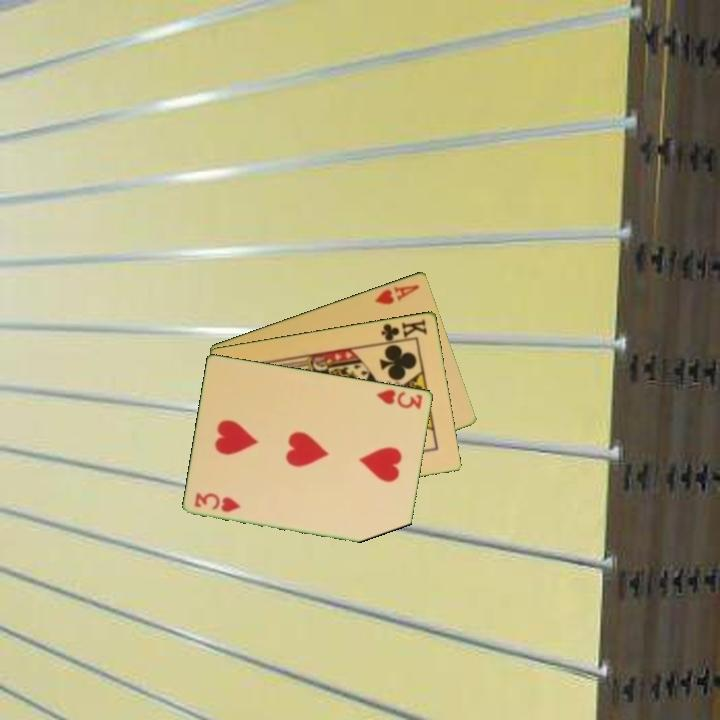3h: (373, 385, 426, 412), (191, 489, 243, 515)
Ah: (372, 281, 422, 307)
Kc: (377, 316, 430, 346)
